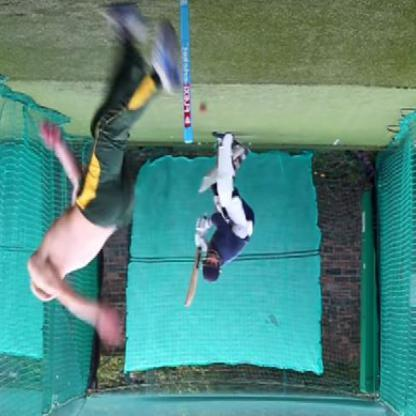ball: (197, 100, 211, 120)
